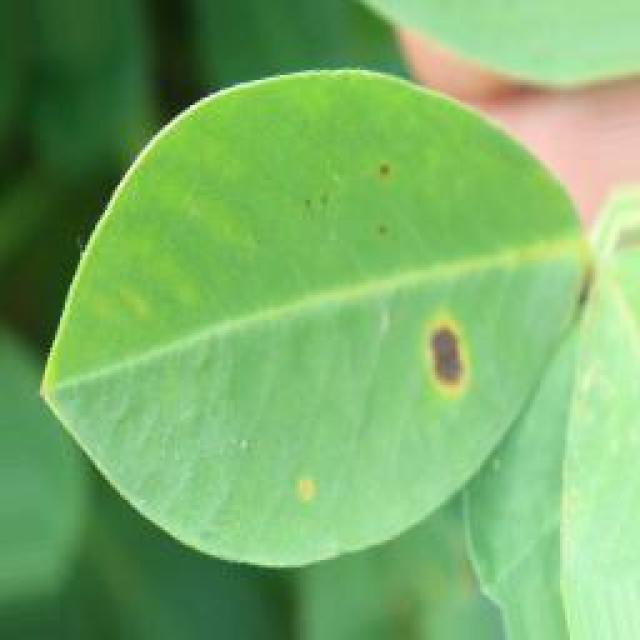Early_leaf_spot: (327, 138, 405, 260), (399, 293, 471, 419), (268, 462, 330, 516)
